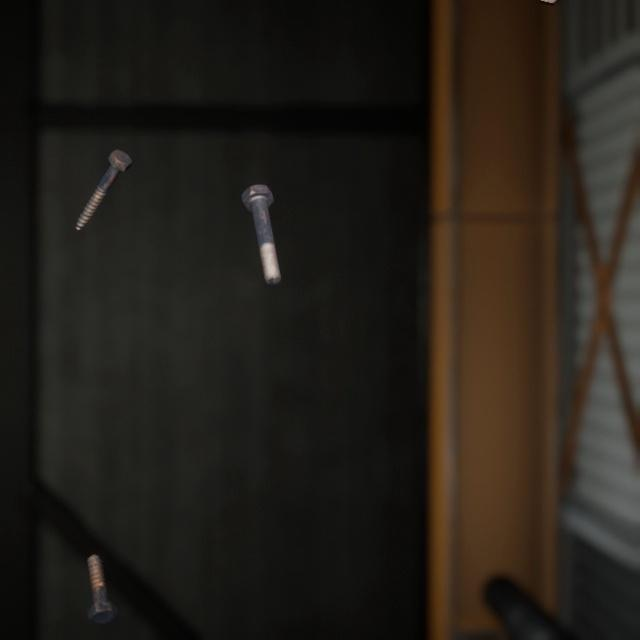bolt: (70, 130, 136, 220), (237, 164, 285, 273), (82, 527, 122, 605)
